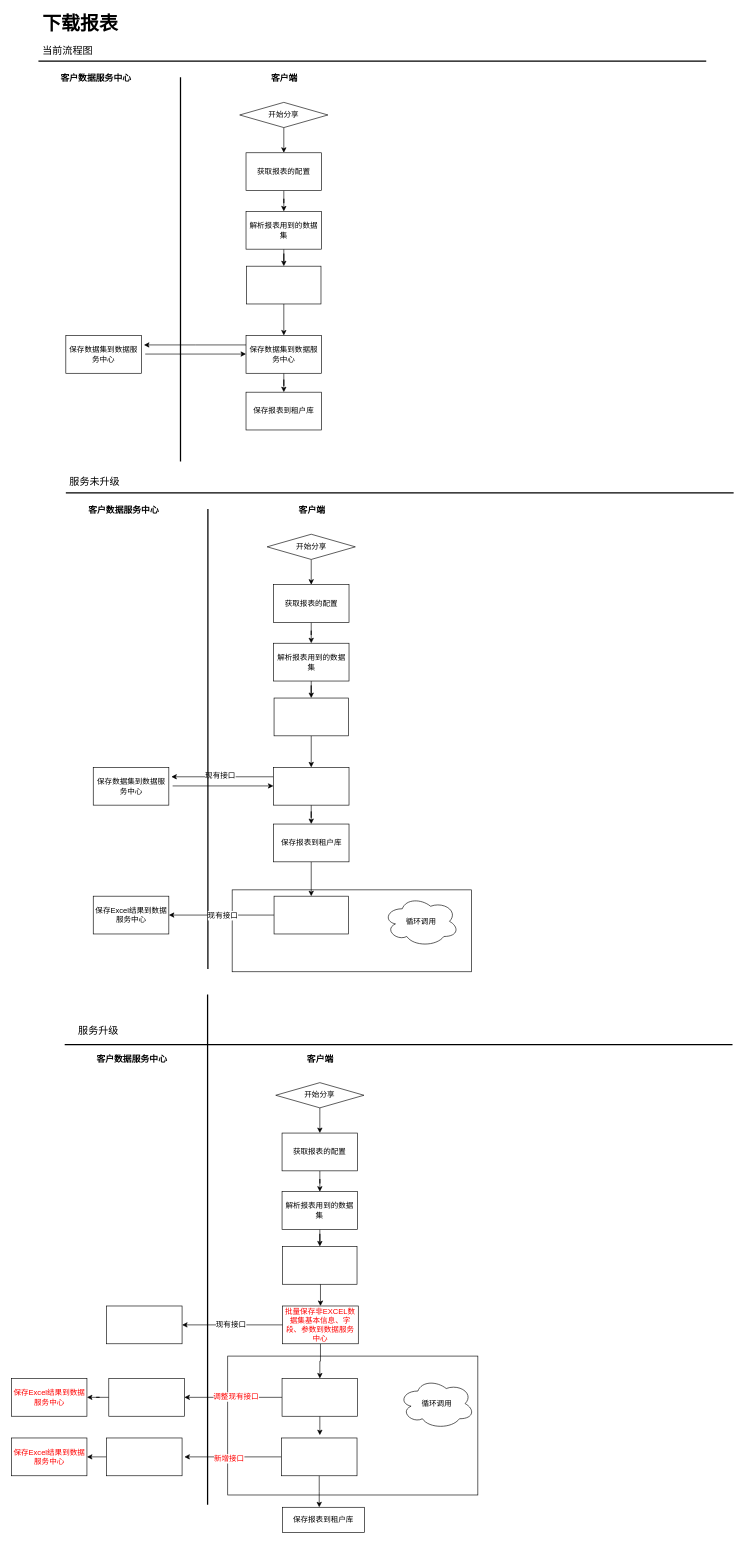
Image size: 745x1544. Some labels were removed from this diagram. Each missing label, with the centre of its shape:
"保存EXCEL数据集基本信息、字段参数、 Json配制 到数据服务中心" goes at (x=319, y=1397).
"保存EXCEL数据集基本信息到数据服务中心" goes at (x=146, y=1397).
"保存EXCEL数据集对应文件夹的基本信息、Json配制 到数据服务中心" goes at (x=319, y=1456).
"保存EXCEL数据集对应文件夹的基本信息到数据服务中心" goes at (x=144, y=1456).
"保存所有数据集基本信息到数据服务中心" goes at (x=311, y=786).
"批量保存非EXCEL数据集基本信息到数据服务中心" goes at (x=144, y=1324).
"获取Exce数据集Json配置，转换为Excel结果" goes at (x=310, y=915).
"获取数据集基本配置(字段、参数)" goes at (x=310, y=716).
"获取数据集相关配置(字段、参数)" goes at (x=319, y=1265).
"获取数据集相关配置(字段、参数、原始文件)" goes at (x=283, y=285).
